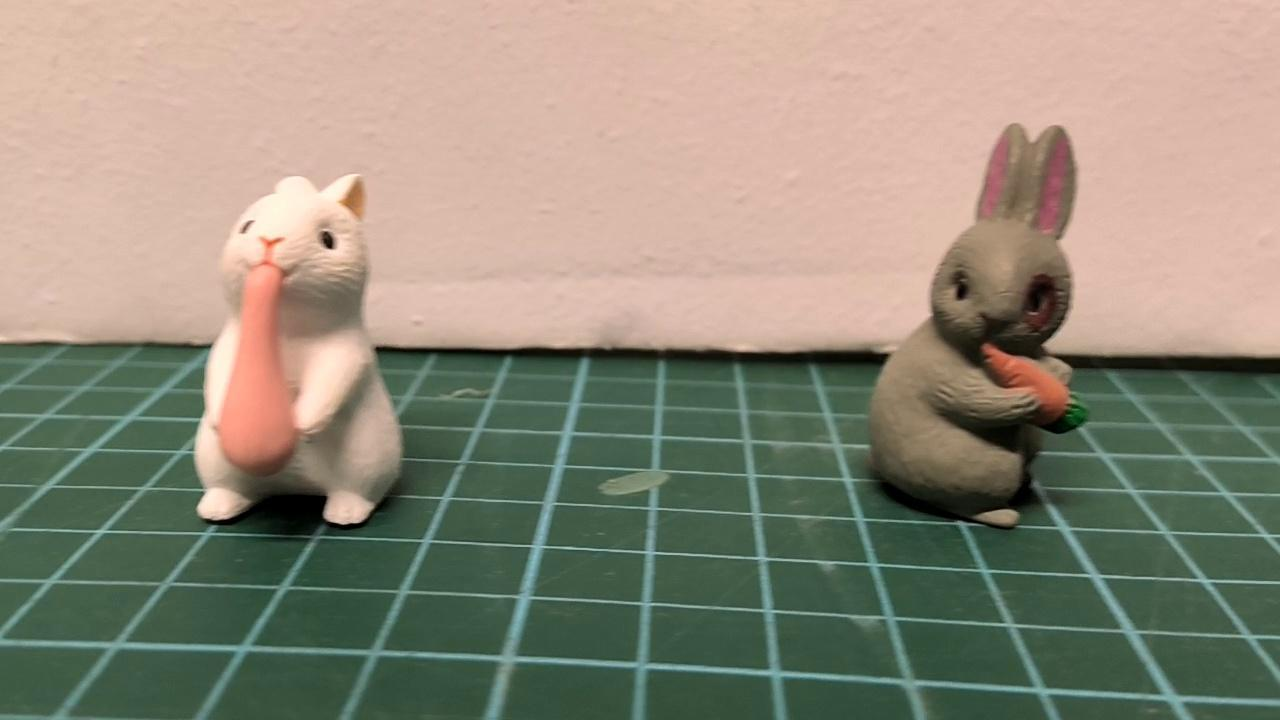pet: (866, 125, 1076, 526), (197, 172, 402, 526)
